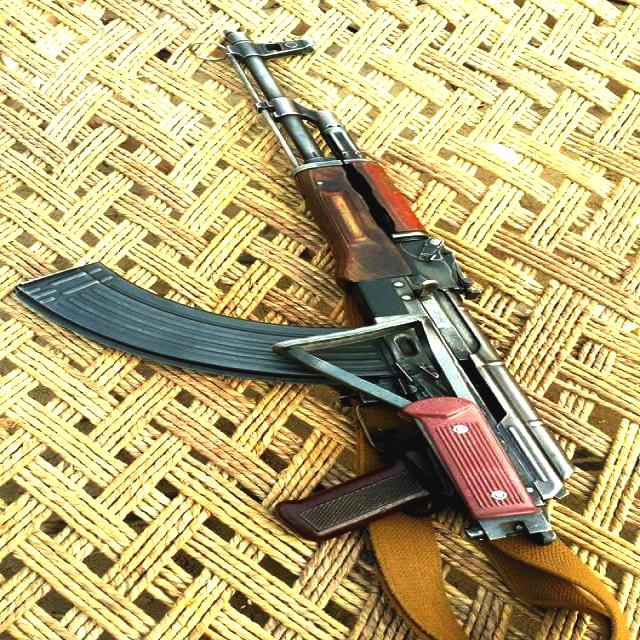ak: (17, 25, 607, 634)
